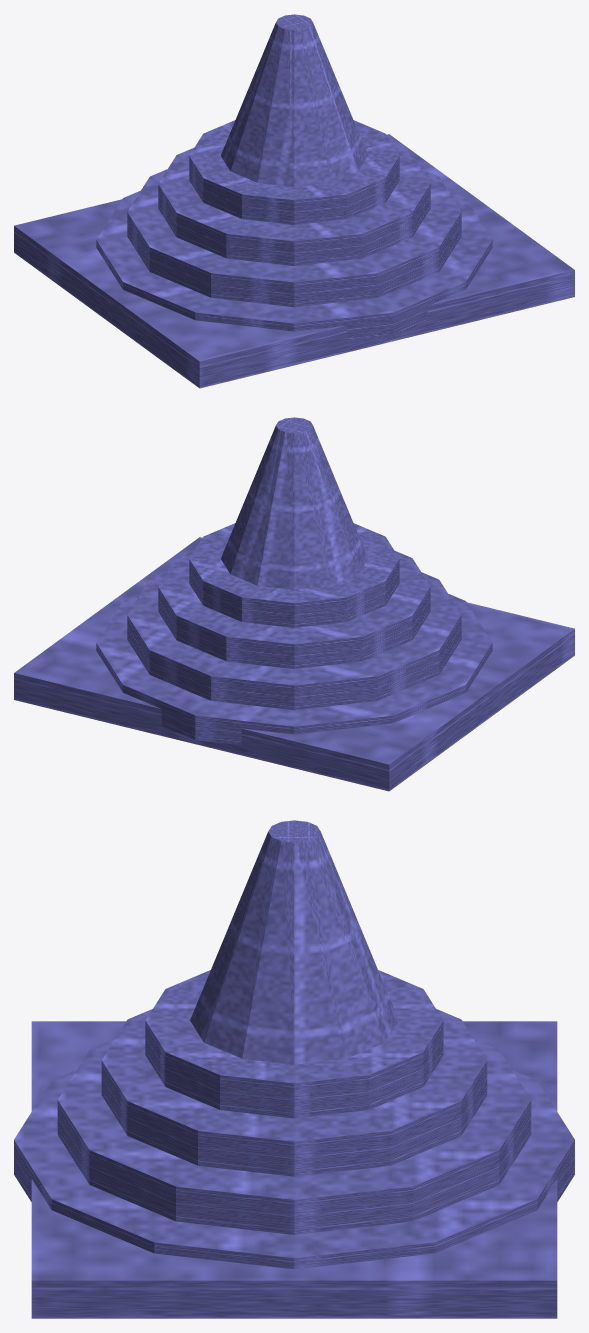
File: meteor_dais_00.glb
The picture shows the model from 3 angles, top to bottom: view 1: azimuth 30°, elevation 25°; view 2: azimuth 150°, elevation 25°; view 3: azimuth 270°, elevation 25°; orthographic projection. The views are drawn at different scales.
Parts seen in each view (by area): view 1: Foundation, MeteorStep.001, Meteor, MeteorStep, MeteorStep.002, MeteorStep.003; view 2: Foundation, MeteorStep.001, Meteor, MeteorStep, MeteorStep.002, MeteorStep.003; view 3: Foundation, MeteorStep.001, Meteor, MeteorStep, MeteorStep.002, MeteorStep.003.
Boxes of the visible parts, x1,y1,x2,y2 form: Foundation: [14, 134, 574, 388]; MeteorStep.001: [127, 169, 461, 307]; Meteor: [220, 14, 368, 186]; MeteorStep: [96, 191, 492, 342]; MeteorStep.002: [158, 148, 430, 265]; MeteorStep.003: [189, 120, 399, 224]; Foundation: [14, 537, 574, 791]; MeteorStep.001: [127, 572, 461, 710]; Meteor: [220, 417, 368, 589]; MeteorStep: [96, 594, 492, 745]; MeteorStep.002: [158, 551, 430, 668]; MeteorStep.003: [189, 523, 399, 627]; Foundation: [31, 1021, 557, 1318]; MeteorStep.001: [57, 1039, 531, 1234]; Meteor: [190, 820, 398, 1064]; MeteorStep: [14, 1070, 574, 1269]; MeteorStep.002: [101, 1009, 487, 1176]; MeteorStep.003: [145, 970, 443, 1118].
Size of the model in its own units: 3.5 by 2.25 by 3.2.
1 material, 1 textured.
